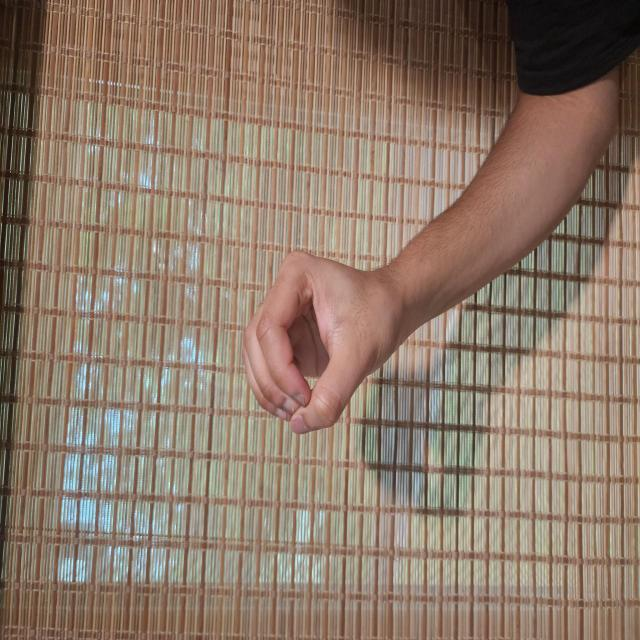O: (148, 320, 301, 541)
